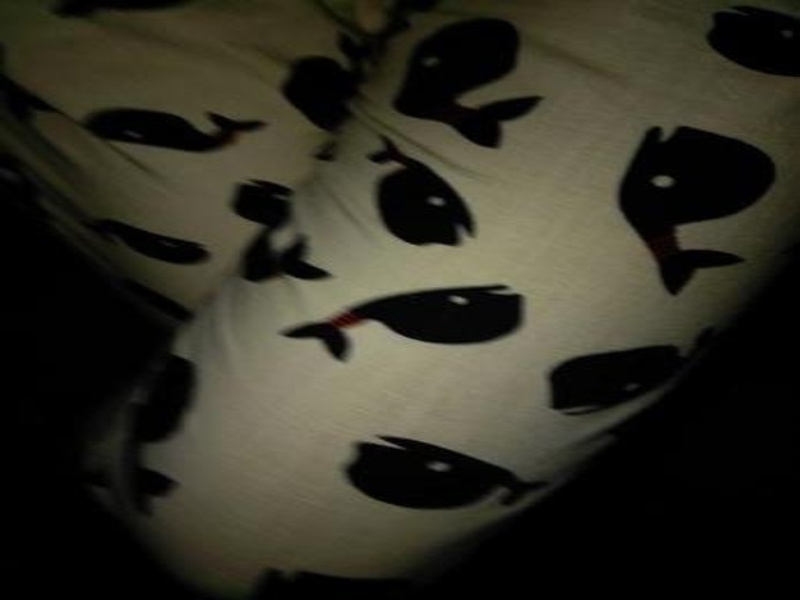trousers: (2, 0, 798, 599)
